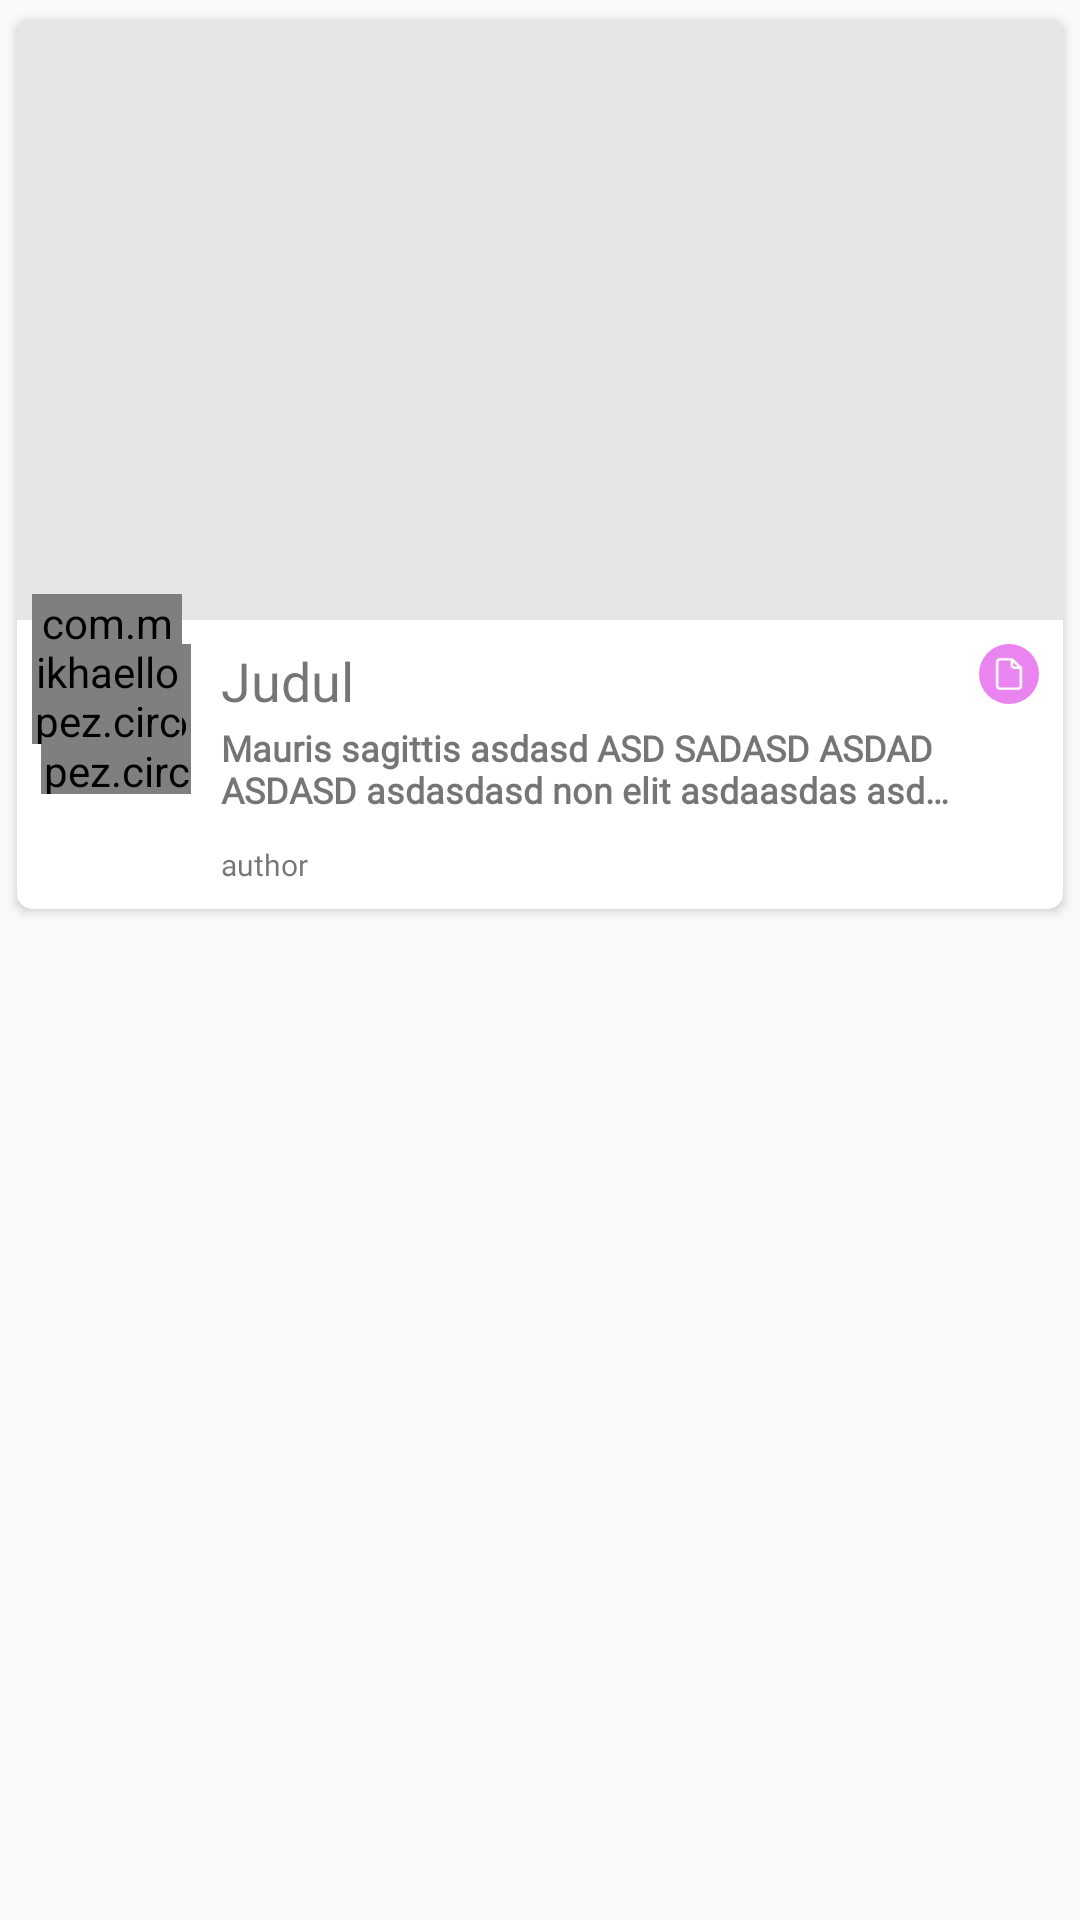

Icon bounding boxes for this 1080 × 1920 phone screenshot, format {"x1": x1, "y1": y1, "x2": x2, "y2": y2}:
document: {"x1": 979, "y1": 644, "x2": 1039, "y2": 704}
